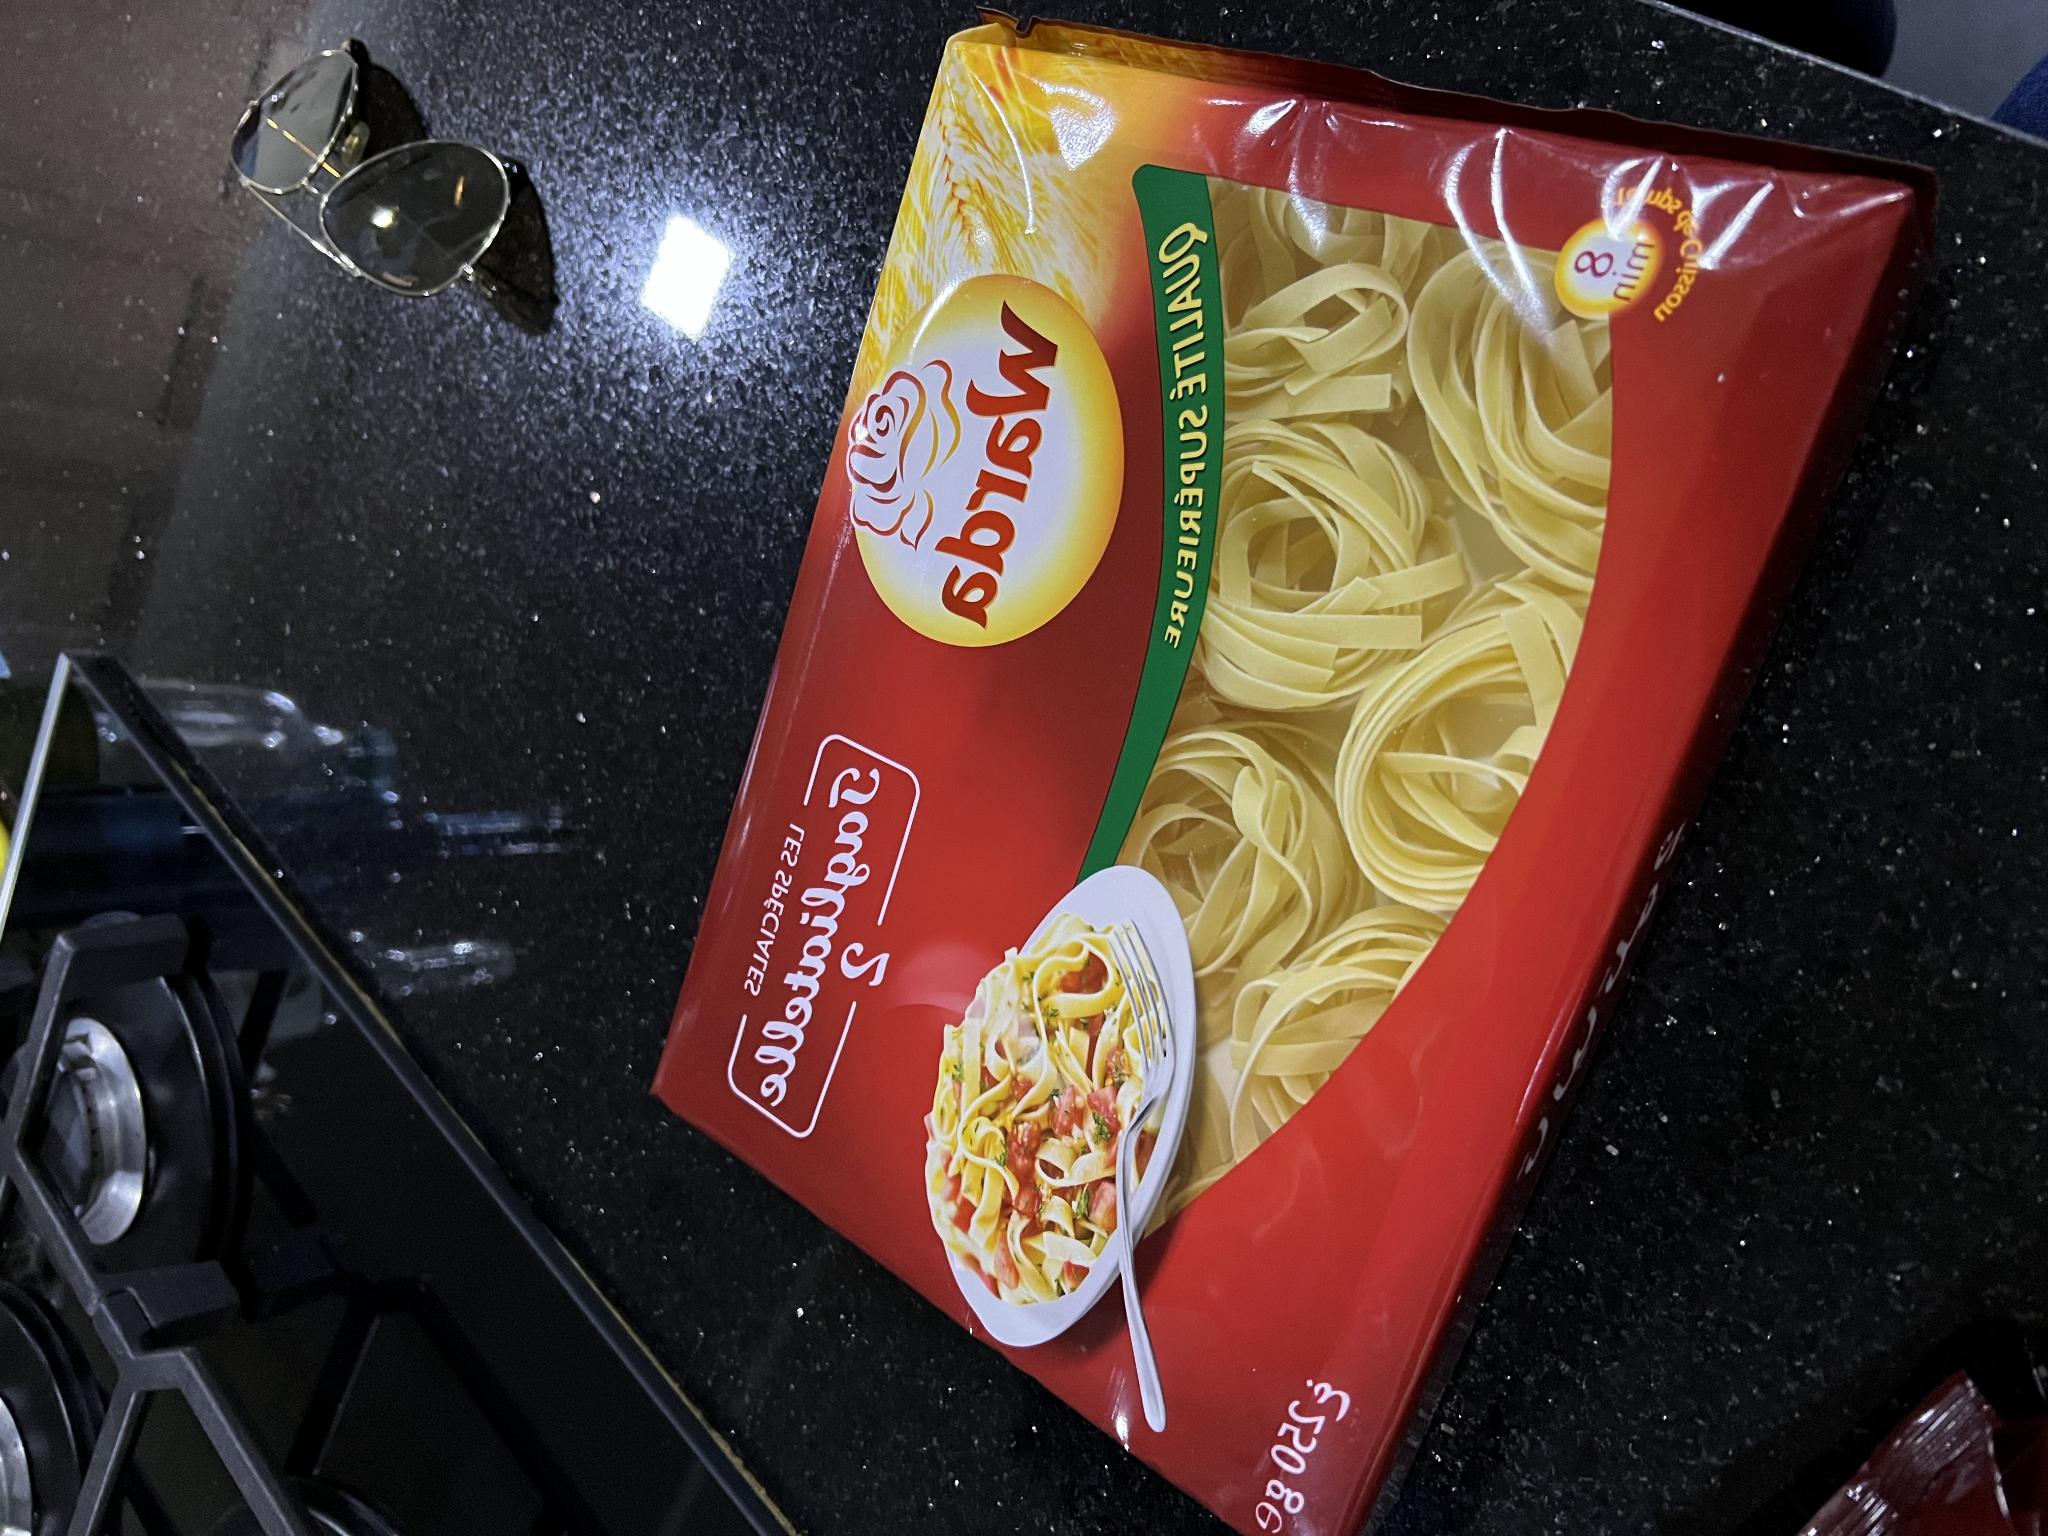Tagliatelle: (656, 44, 1885, 1515)
